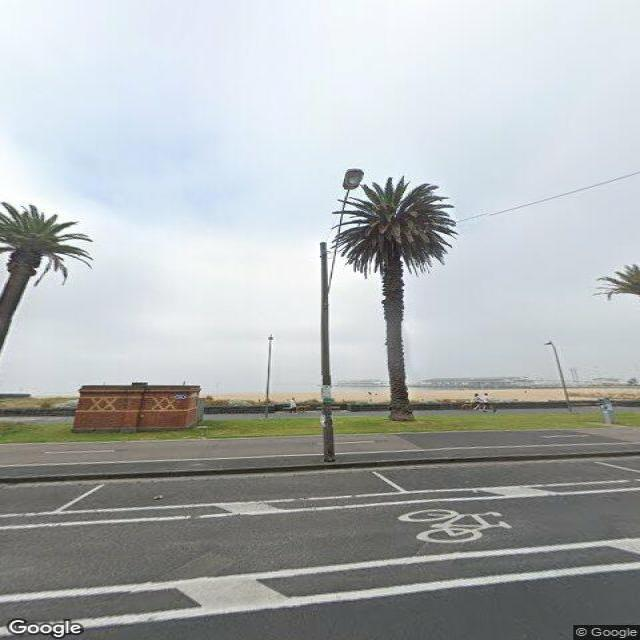streetlight: (327, 168, 364, 294)
timber-pole: (320, 241, 336, 463)
